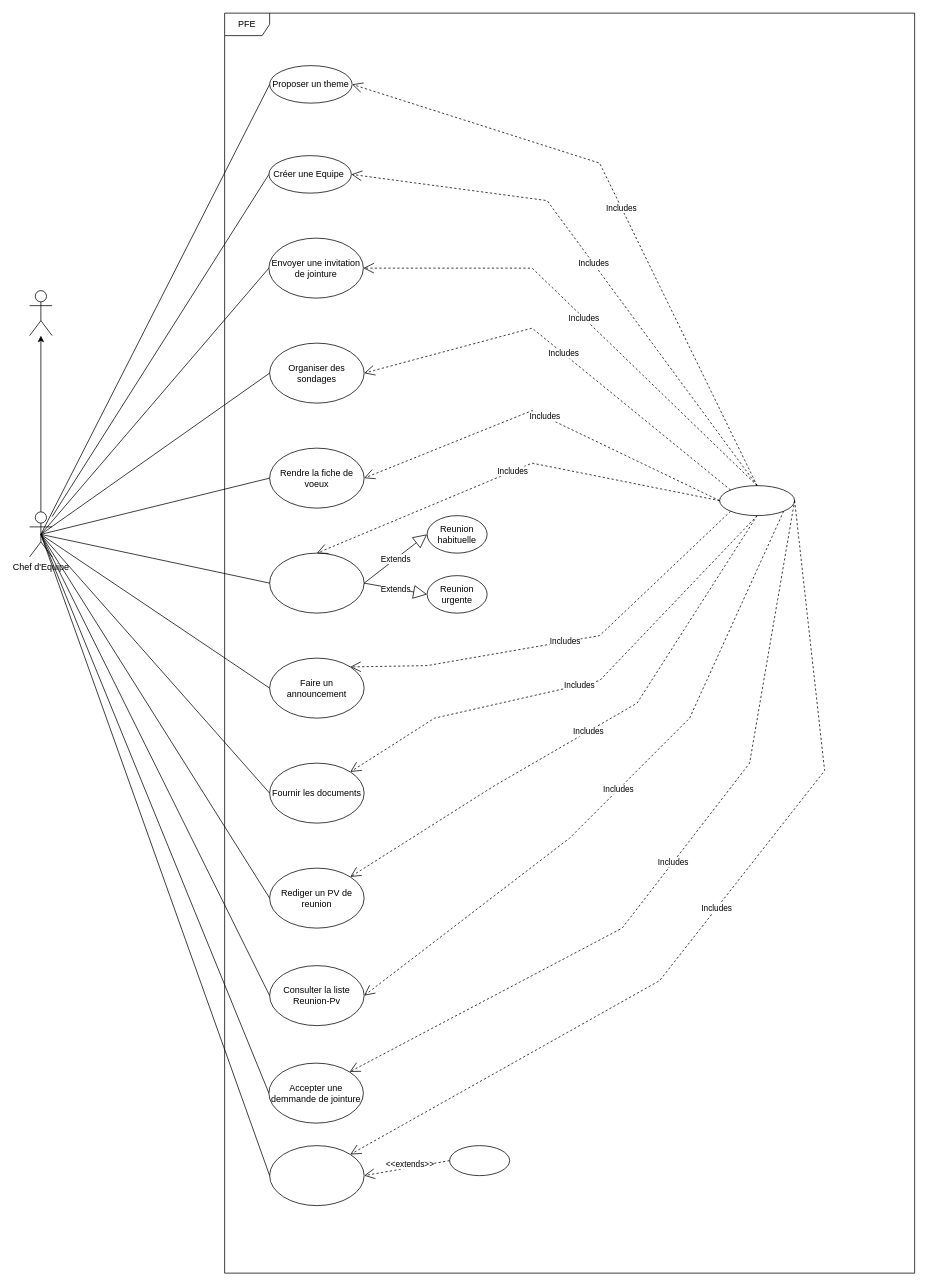
Some shapes in this 928 by 1286 pixel diagram are drawn without their labels. The shapes that lost their labels are listed below. From the top down, each one's centre as x and y in pixels, then its label:
At point (40, 313): "Etudiant".
At point (757, 500): "S'authentififier".
At point (316, 582): "Organider une reunion".
At point (316, 1175): "Refuser une demmande de jointure".
At point (479, 1160): "Indiquer la raison".
